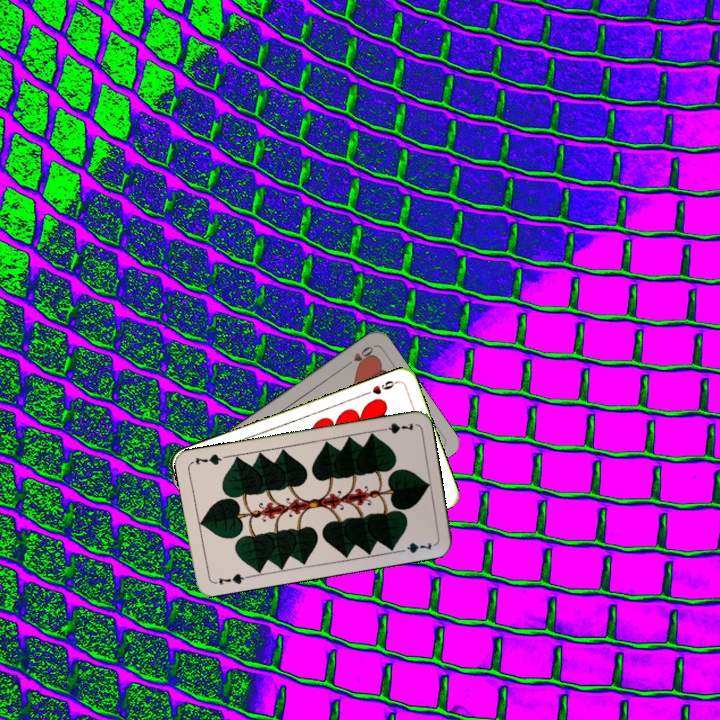G7: (210, 570, 250, 588), (375, 419, 416, 436)
H9: (361, 376, 401, 397)
HO: (340, 342, 376, 370)
